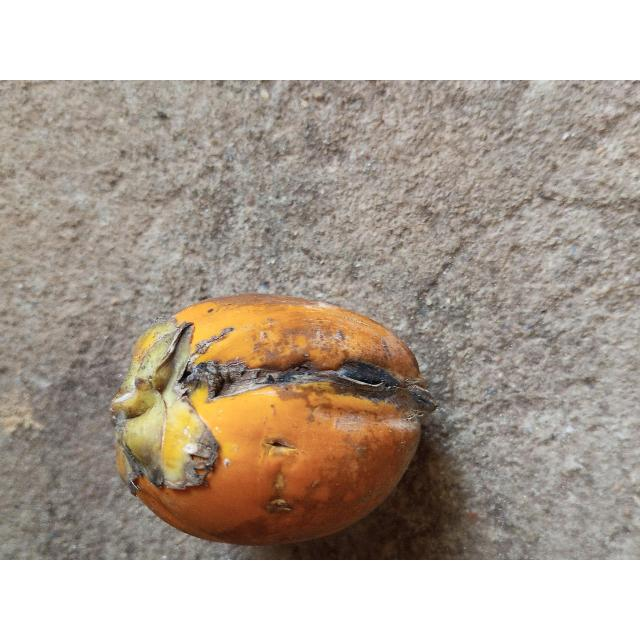damaged: (110, 295, 432, 548)
